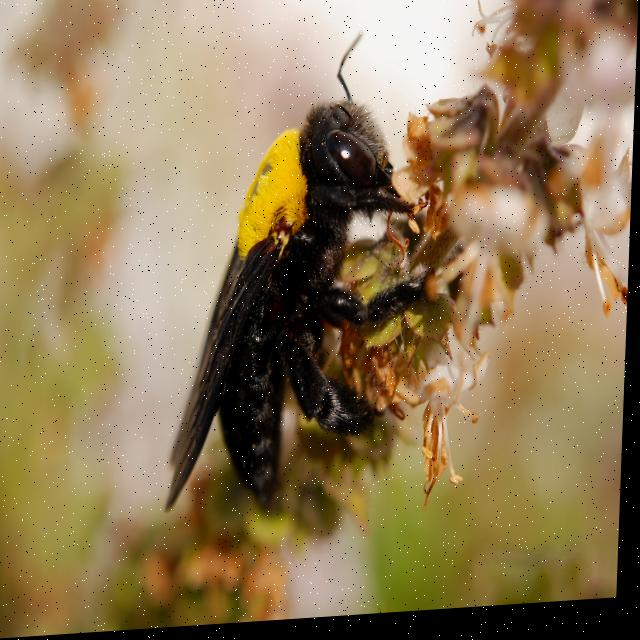Xylocopa: (155, 27, 428, 507)
